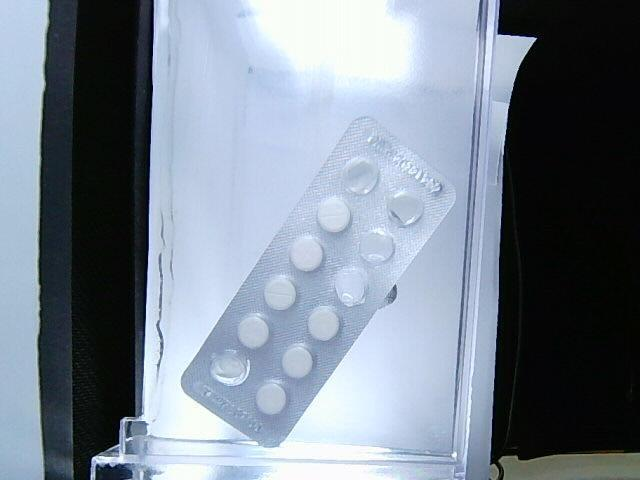Light Front: (179, 117, 456, 450)
No Pill Front: (343, 156, 379, 194), (211, 350, 249, 385), (388, 190, 424, 226), (335, 266, 367, 305), (359, 229, 395, 263)
Pill Front: (289, 235, 324, 271), (238, 313, 270, 349), (264, 275, 296, 310), (308, 306, 340, 340), (281, 344, 313, 378), (256, 383, 286, 414)
